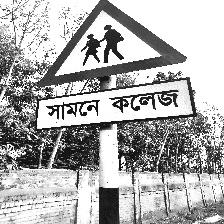College-in-front: (35, 0, 196, 131)
